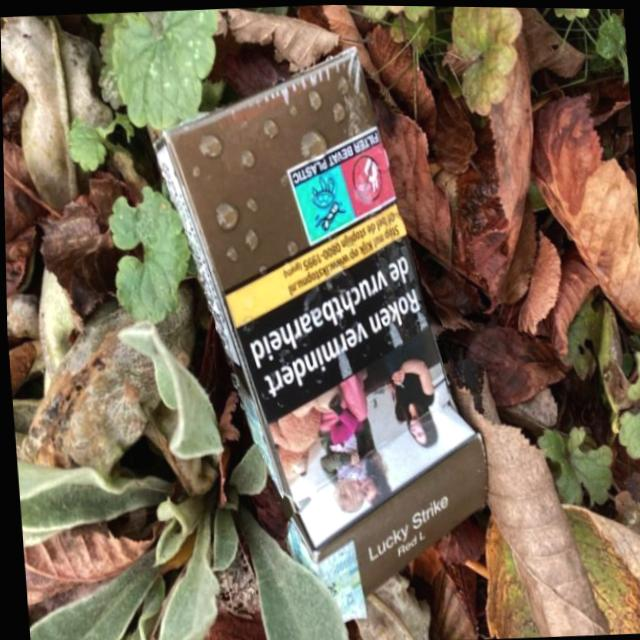Paper: (136, 32, 502, 632)
